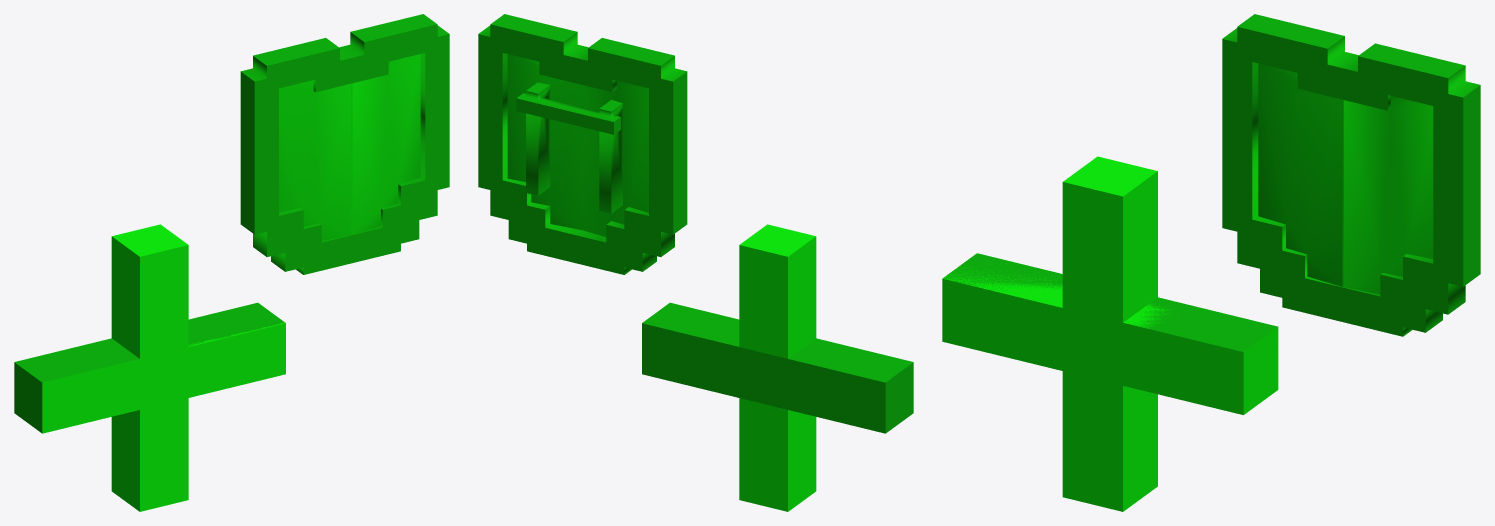
Rendered from GuardBooster.fbx.
3 renders of one model, left to right at view 1: azimuth 30°, elevation 25°; view 2: azimuth 150°, elevation 25°; view 3: azimuth 330°, elevation 25°, orthographic. The views are drawn at different scales.
Visible parts, largest first — view 1: Cube.014, Cube, Cube.002; view 2: Cube.014, Cube, Cube.002, Cube.017; view 3: Cube, Cube.014, Cube.002.
Part boxes in pixels (bbox=[...]): Cube.014: bbox=[14, 14, 449, 433]; Cube: bbox=[42, 224, 285, 511]; Cube.002: bbox=[279, 54, 420, 240]; Cube.014: bbox=[478, 14, 913, 433]; Cube: bbox=[739, 224, 816, 511]; Cube.002: bbox=[507, 54, 648, 236]; Cube.017: bbox=[516, 82, 622, 213]; Cube: bbox=[942, 156, 1278, 511]; Cube.014: bbox=[943, 14, 1480, 351]; Cube.002: bbox=[1258, 63, 1433, 294].
Bounding box in the file's own units: 170 × 160 × 22.5.
